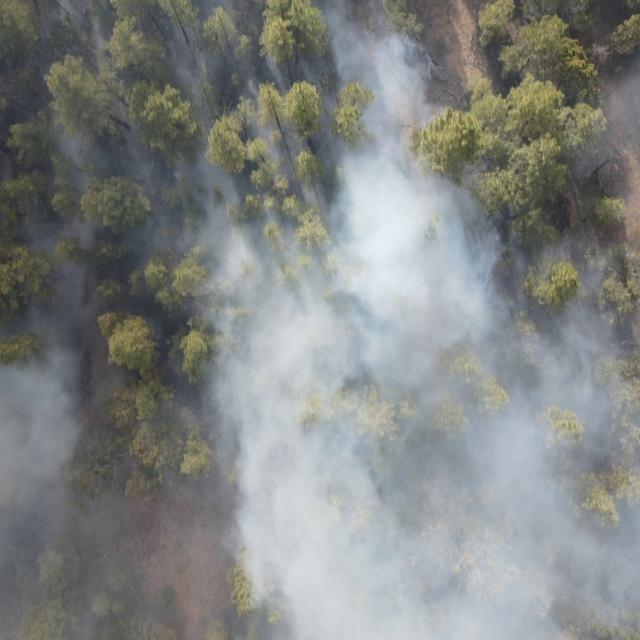smoke: (0, 0, 447, 640), (447, 166, 640, 640), (593, 62, 640, 166)
